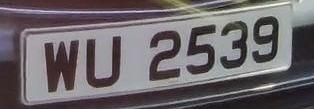2: (140, 26, 185, 83)
3: (216, 17, 250, 74)
5: (182, 21, 219, 80)
9: (247, 13, 283, 69)
U: (82, 32, 128, 92)
W: (38, 34, 85, 97)
